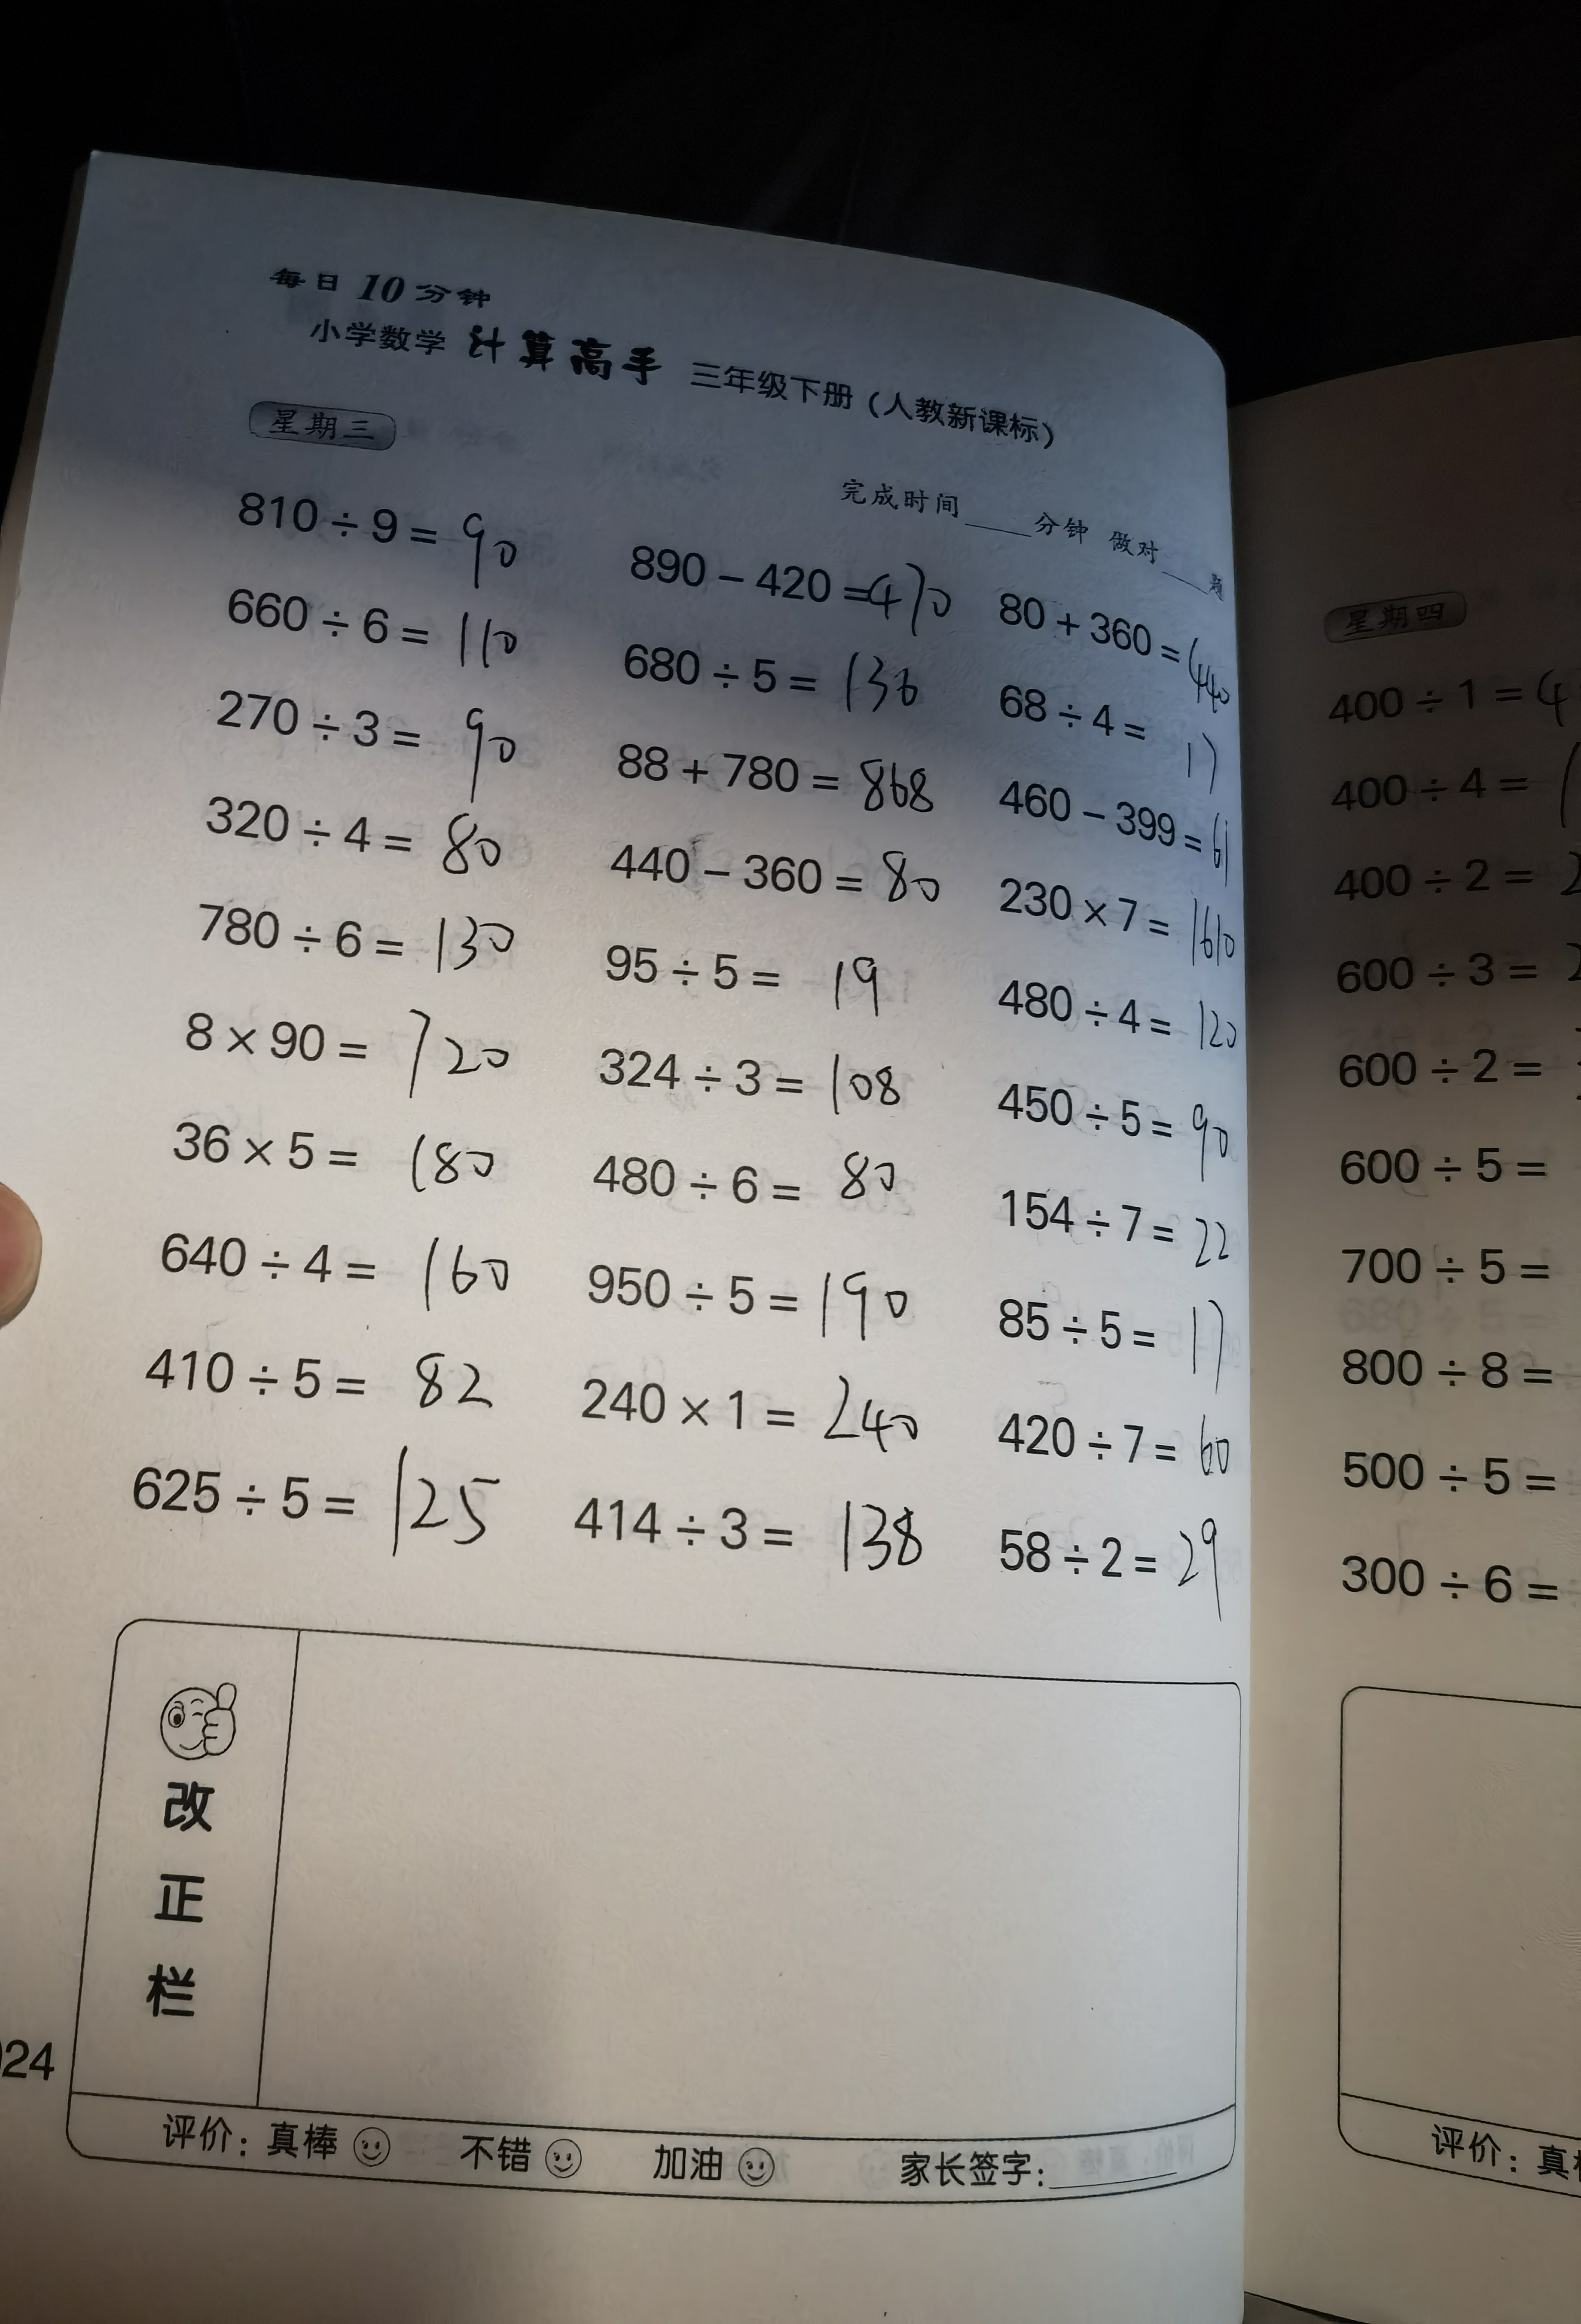equation: (561, 1466, 937, 1602), (85, 1443, 501, 1565), (187, 671, 551, 806), (1000, 531, 1249, 713), (194, 787, 551, 900), (146, 1212, 528, 1316), (612, 533, 976, 633), (231, 445, 533, 559), (129, 1343, 508, 1433), (175, 997, 513, 1098), (565, 1361, 921, 1456), (603, 626, 981, 715), (616, 829, 976, 921), (162, 1112, 524, 1202), (988, 861, 1249, 985), (191, 579, 531, 672), (581, 1140, 923, 1232), (611, 731, 946, 821), (565, 1032, 916, 1115), (983, 1285, 1240, 1392), (203, 891, 517, 979), (972, 1179, 1237, 1281), (999, 1509, 1240, 1618), (981, 972, 1239, 1073), (978, 1073, 1235, 1172), (589, 1262, 918, 1338), (993, 683, 1219, 791), (979, 1405, 1256, 1489), (582, 942, 903, 1015), (999, 780, 1235, 877)
